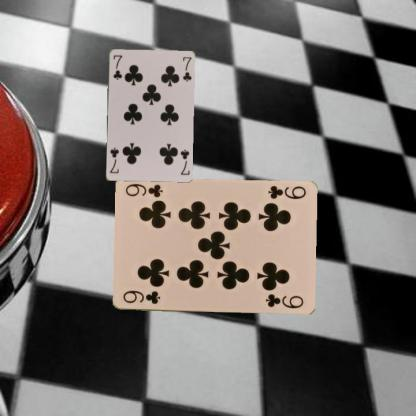7c: (178, 146, 191, 176), (111, 52, 123, 81)
9c: (120, 288, 162, 306), (266, 183, 308, 201)
